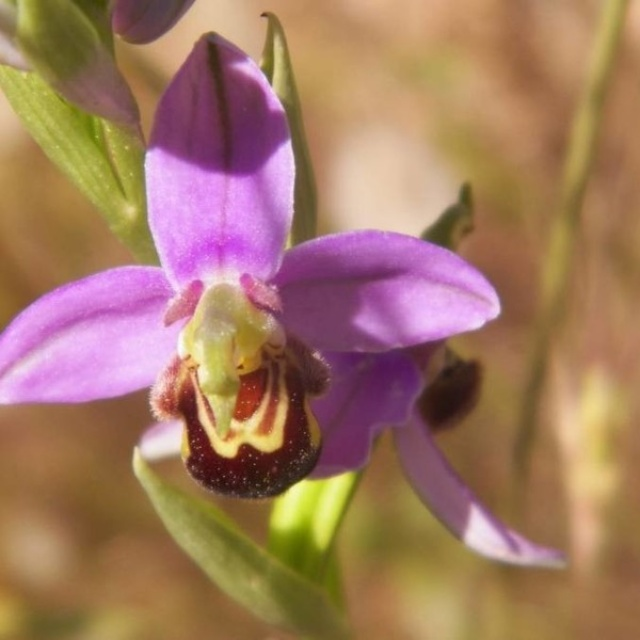obstacle: (9, 48, 554, 577)
